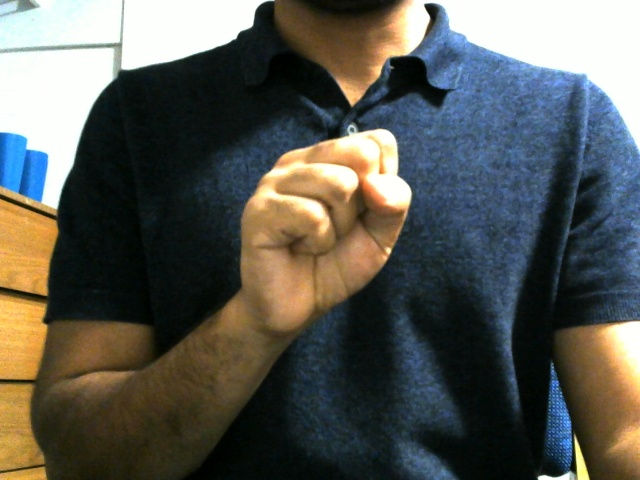S: (234, 123, 420, 337)
